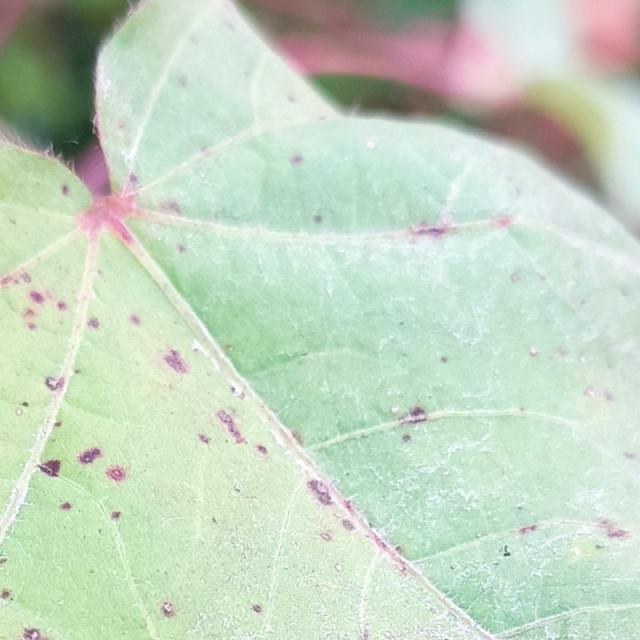Bacterial_Blight: (13, 281, 71, 331), (401, 399, 436, 434), (215, 409, 246, 444), (1, 267, 36, 291), (306, 477, 334, 505), (162, 348, 190, 376), (105, 463, 130, 483), (39, 458, 62, 477), (78, 447, 102, 465), (44, 374, 66, 392), (117, 224, 135, 244), (420, 225, 447, 238), (494, 215, 514, 229), (606, 527, 629, 539), (23, 627, 45, 639), (160, 601, 176, 617), (164, 200, 182, 214), (28, 290, 45, 304), (517, 524, 538, 534), (291, 429, 304, 444), (584, 386, 599, 399), (1, 275, 16, 288), (341, 518, 355, 531), (230, 384, 243, 398), (290, 154, 304, 166), (128, 172, 140, 186), (22, 307, 36, 319), (87, 317, 100, 329), (199, 147, 213, 158), (198, 433, 210, 445), (394, 545, 406, 557), (256, 444, 268, 456), (1, 588, 12, 601), (129, 314, 141, 325), (510, 271, 521, 283), (603, 390, 614, 402), (178, 75, 189, 87), (59, 502, 72, 512), (319, 532, 332, 542), (176, 243, 187, 254), (189, 34, 200, 45), (556, 347, 568, 357), (25, 321, 37, 331), (502, 546, 512, 557), (312, 214, 323, 224), (251, 604, 262, 614), (61, 184, 70, 196), (401, 433, 411, 443), (529, 346, 539, 356), (111, 511, 121, 521), (287, 93, 297, 103), (624, 452, 636, 460), (26, 634, 39, 640), (440, 355, 449, 363), (233, 484, 241, 493), (391, 406, 400, 414), (117, 122, 126, 130), (0, 557, 7, 567), (594, 543, 604, 550), (54, 420, 62, 428), (211, 516, 218, 525), (21, 401, 29, 408), (518, 406, 525, 413), (397, 320, 404, 326)
Cotton: (0, 0, 639, 639)
